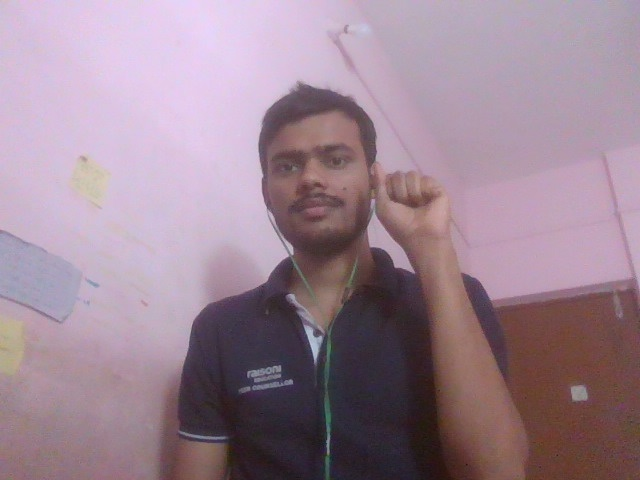Yes: (297, 159, 588, 326)
